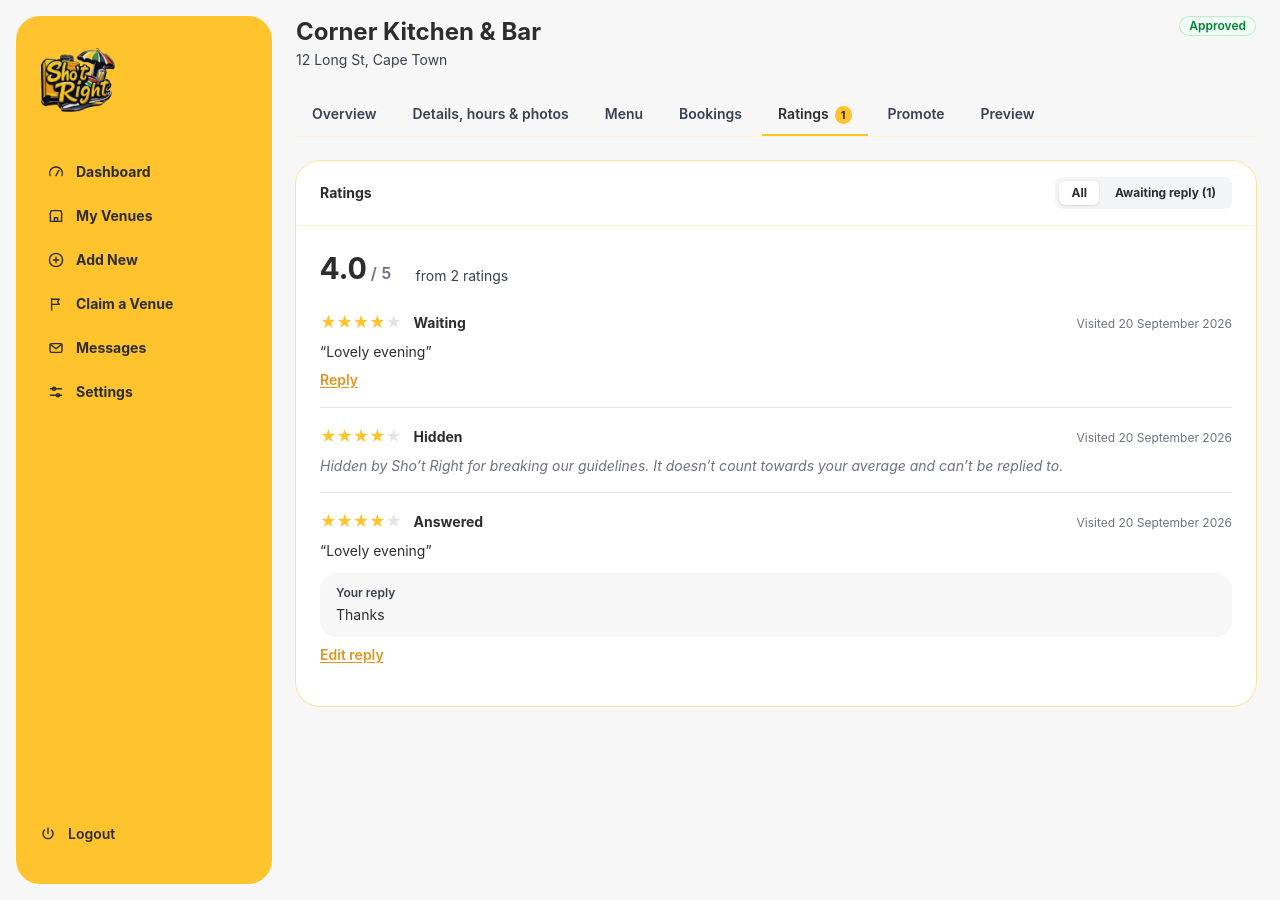
replying › "Awaiting reply" leaves out answered and hidden ratings
Click the button "Awaiting reply (1)": (1166, 193) top-left (1103, 181), bottom-right (1228, 205)
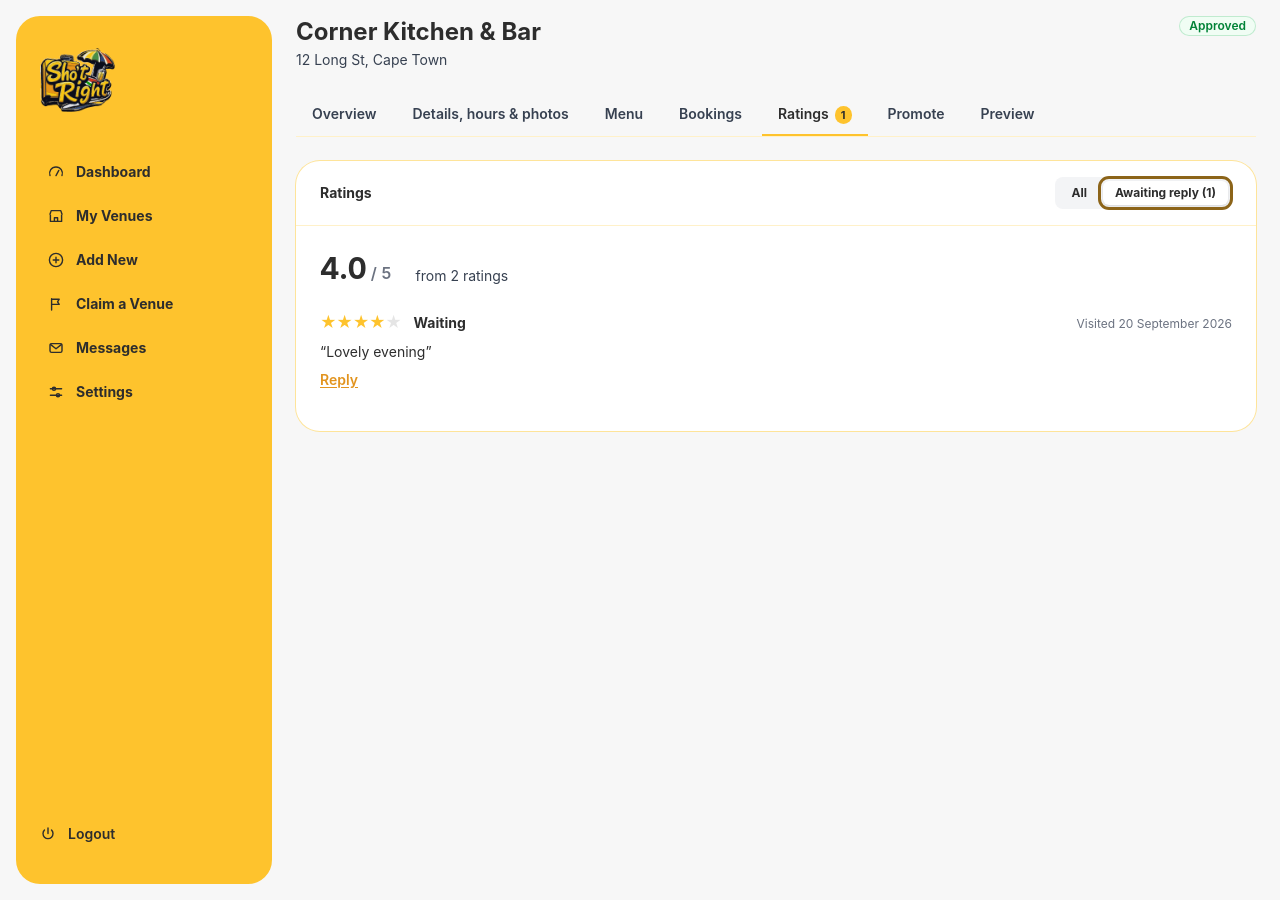
Expected: the text "Waiting" is shown, top-left (414, 313), bottom-right (466, 333)
Expected: the text "Answered" is gone
Expected: the text "Hidden" is gone
